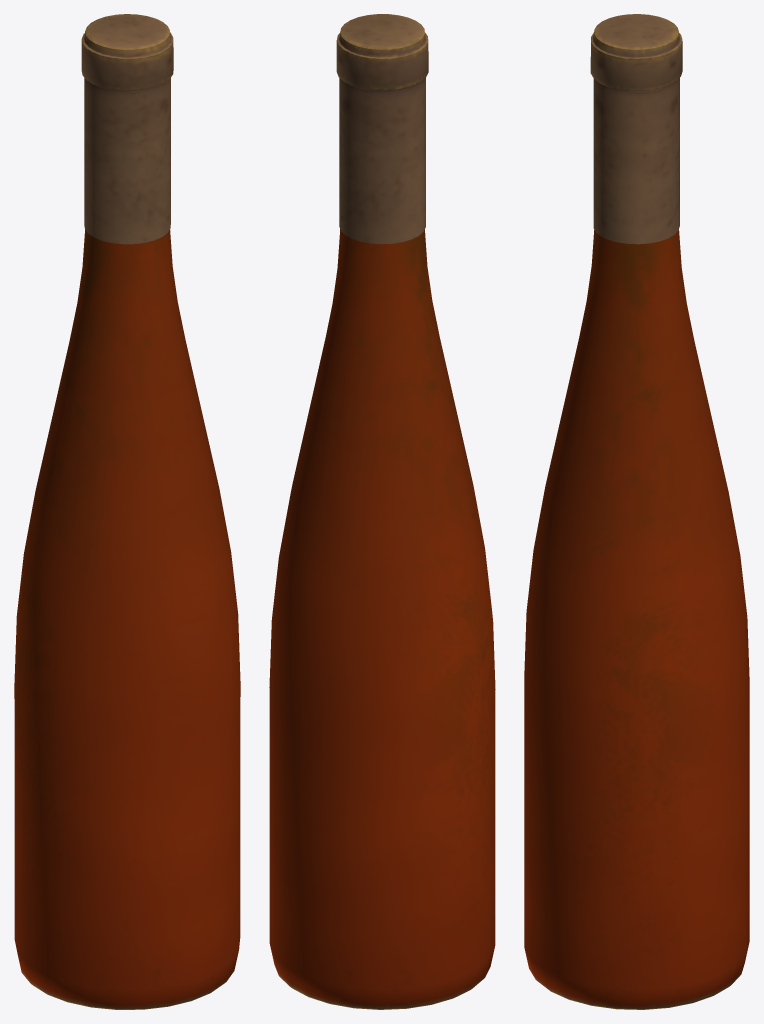
The model's file is SM_Bottle6.fbx.
3 views of the same model, side by side, from view 1: azimuth 30°, elevation 25°; view 2: azimuth 150°, elevation 25°; view 3: azimuth 270°, elevation 25° (orthographic).
Visible parts, largest first — view 1: SM_Bottle6_LOD0; view 2: SM_Bottle6_LOD0; view 3: SM_Bottle6_LOD0.
Part boxes in pixels (box(x1,y1,x2,y2)): SM_Bottle6_LOD0: box(14, 14, 240, 1009); SM_Bottle6_LOD0: box(269, 14, 495, 1009); SM_Bottle6_LOD0: box(524, 14, 749, 1009).
Bounding box in the file's own units: 11.23 × 11.21 × 51.21.
Materials: 1 (1 with a texture image).
